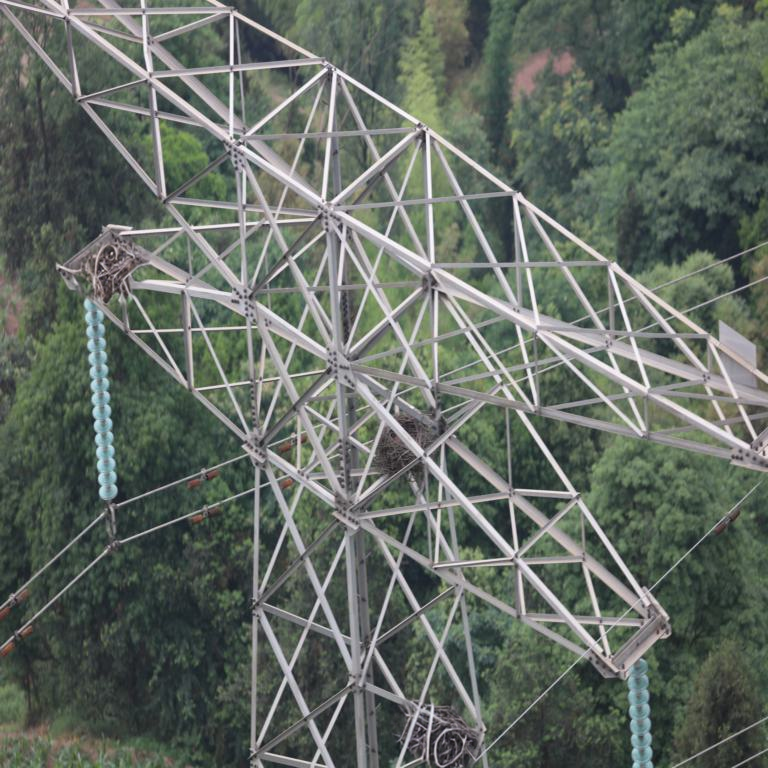nest: (397, 702, 479, 766), (378, 415, 430, 481), (88, 242, 140, 306)
